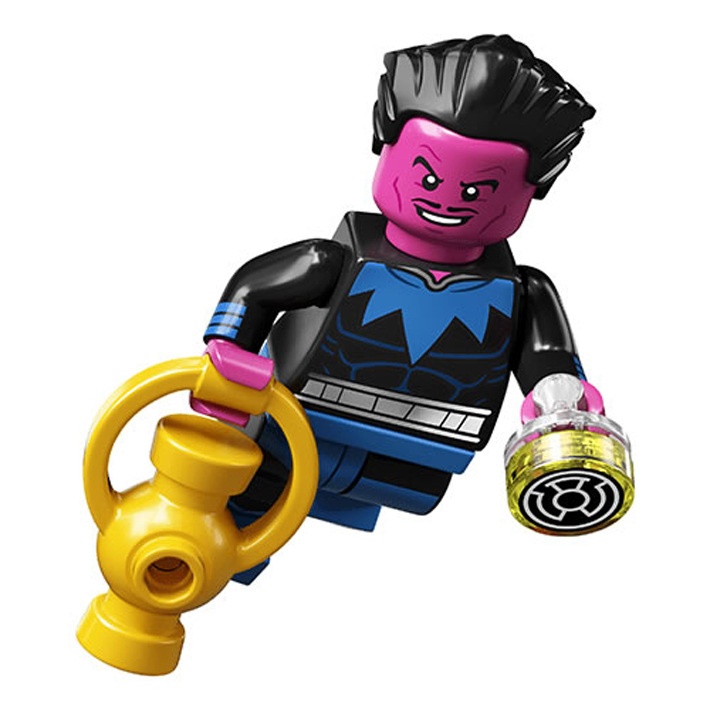lego: (171, 27, 642, 586)
